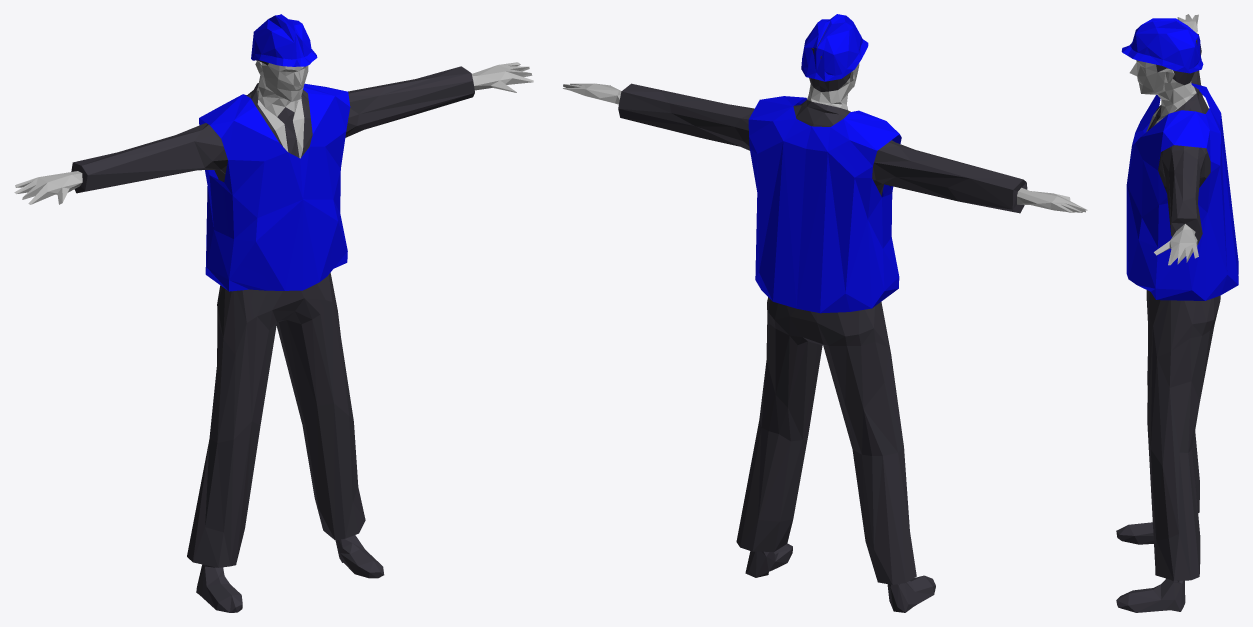
The model's file is operator.fbx.
The picture shows the model from 3 angles, left to right: view 1: azimuth 30°, elevation 25°; view 2: azimuth 150°, elevation 25°; view 3: azimuth 270°, elevation 25°; orthographic projection. The views are drawn at different scales.
Visible parts, largest first — view 1: Body.001, Jacket, Helmet; view 2: Body.001, Jacket, Helmet; view 3: Body.001, Jacket, Helmet.
Part boxes in pixels (x1,y1,x2,y2): Body.001: (14,60,533,612); Jacket: (199,83,350,291); Helmet: (251,14,317,66); Body.001: (563,25,1087,612); Jacket: (748,96,901,313); Helmet: (801,14,868,81); Body.001: (1116,14,1220,612); Jacket: (1126,83,1238,300); Helmet: (1121,18,1203,73).
Bounding box in the file's own units: 171 × 179 × 35.66.
